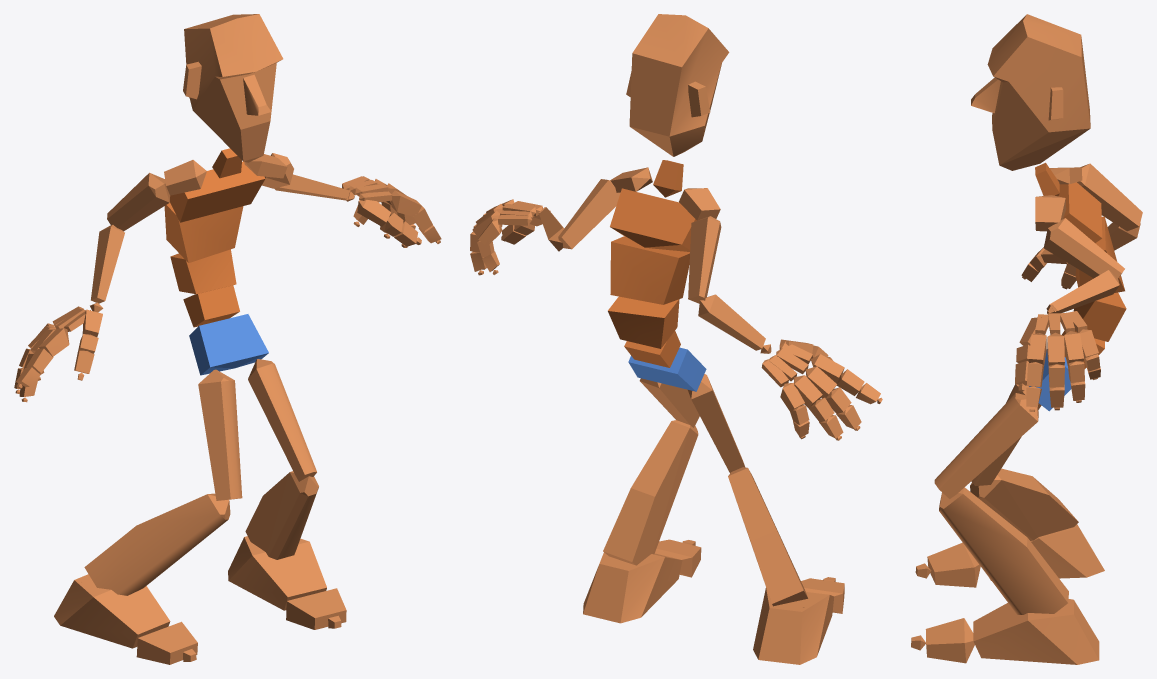
3 renders of one model, left to right at view 1: azimuth 30°, elevation 25°; view 2: azimuth 150°, elevation 25°; view 3: azimuth 270°, elevation 25°, orthographic. The views are drawn at different scales.
Visible parts, largest first — view 1: BOPED_Head, BOPED_R_leg, BOPED_R_foot, BOPED_R_foot01, BOPED_R_legup, BOPED_L_leg, BOPED_L_legup, Bone01, Bone04, Bone05, Bone03, BOPED_R_arm_upper (+8 smaller); view 2: BOPED_Head, BOPED_L_leg, BOPED_R_foot01, BOPED_R_foot, BOPED_R_leg, Bone04, Bone05, Bone03, BOPED_R_arm_upper, BOPED_R_legup, BOPED_L_arm_upper, Bone01 (+8 smaller); view 3: BOPED_Head, BOPED_L_leg, BOPED_R_foot01, BOPED_R_leg, BOPED_L_legup, BOPED_R_foot, BOPED_L_arm_upper, BOPED_R_arm_upper, BOPED_R_foot_toe01, BOPED_R_foot_toe04, Bone05, Bone03 (+14 smaller).
Boxes of the visible parts, x1,y1,x2,y2 form: BOPED_Head: (183,14,283,162); BOPED_R_leg: (84,493,230,595); BOPED_R_foot: (54,574,170,648); BOPED_R_foot01: (228,536,326,610); BOPED_R_legup: (198,369,242,500); BOPED_L_leg: (245,471,318,559); BOPED_L_legup: (248,359,316,481); Bone01: (189,314,268,375); Bone04: (164,202,243,262); Bone05: (170,161,265,222); Bone03: (170,249,236,294); BOPED_R_arm_upper: (107,172,170,231); BOPED_Head: (626,14,729,156); BOPED_L_leg: (603,420,698,565); BOPED_R_foot01: (583,552,682,623); BOPED_R_foot: (753,587,834,664); BOPED_R_leg: (728,467,807,606); Bone04: (610,236,689,304); Bone05: (610,188,696,251); Bone03: (608,296,679,348); BOPED_R_arm_upper: (688,216,721,303); BOPED_R_legup: (688,374,744,473); BOPED_L_arm_upper: (558,179,620,249); Bone01: (628,347,706,391); BOPED_Head: (971,14,1090,170); BOPED_L_leg: (939,487,1068,614); BOPED_R_foot01: (973,599,1099,664); BOPED_R_leg: (970,468,1078,540); BOPED_L_legup: (934,393,1038,498); BOPED_R_foot: (989,524,1104,580); BOPED_L_arm_upper: (1043,218,1124,279); BOPED_R_arm_upper: (1077,163,1142,231); BOPED_R_foot_toe01: (927,542,980,587); BOPED_R_foot_toe04: (925,618,974,663); Bone05: (1058,182,1102,242); Bone03: (1073,292,1126,341).
Size of the model in its own units: 130 by 175 by 60.78.
